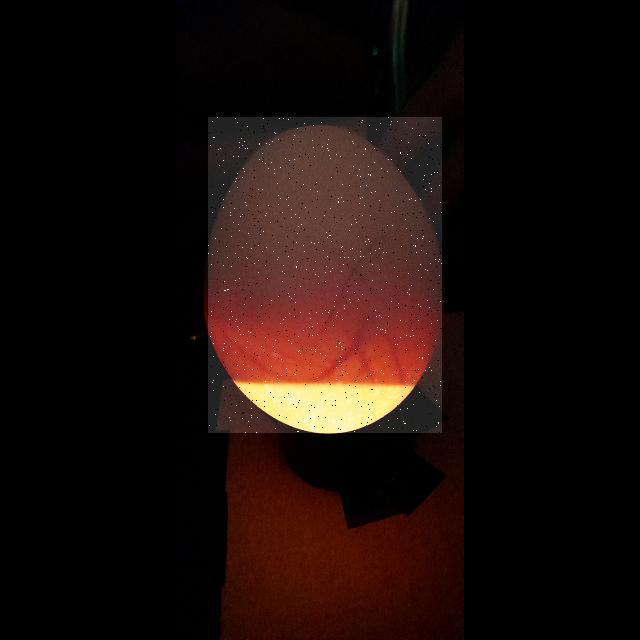Fertile: (208, 117, 442, 433)
